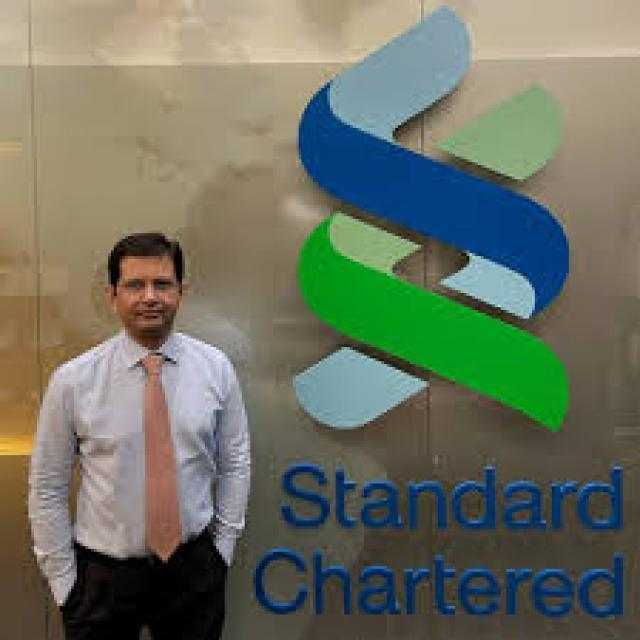Standard Chartered: (255, 7, 628, 618)
